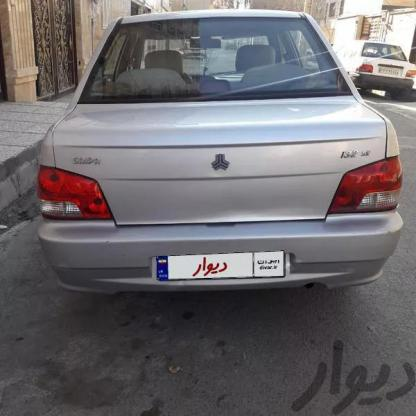Car: (27, 0, 407, 302), (327, 35, 416, 115)
